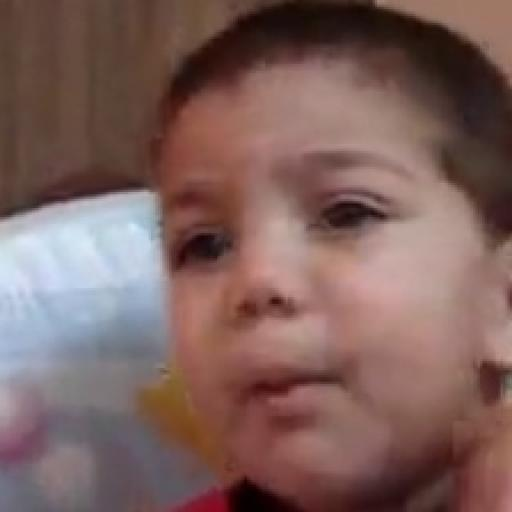Autism: (145, 40, 511, 512)
